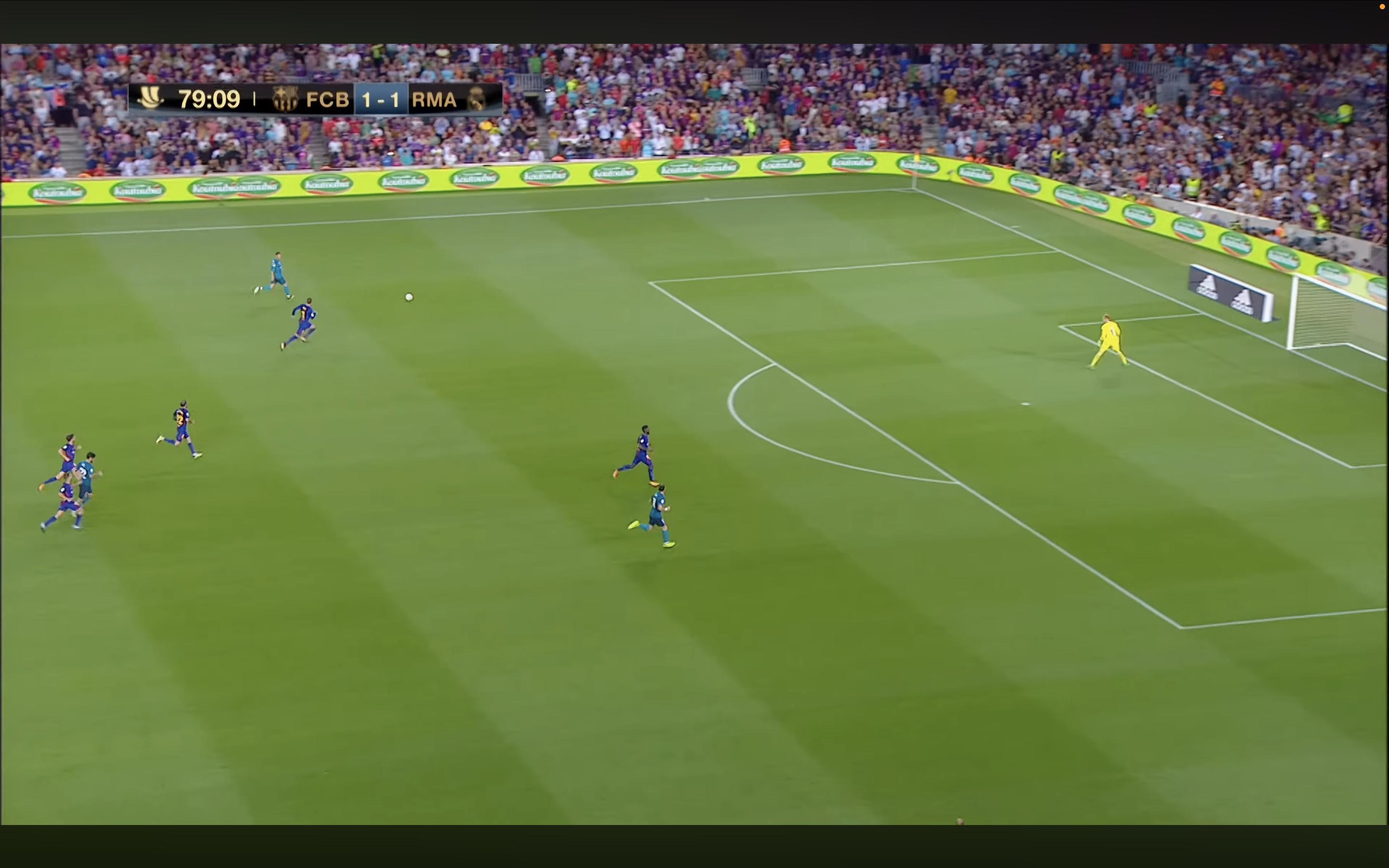ball: (404, 293, 413, 301)
goalkeeper: (1089, 314, 1129, 367)
player: (628, 484, 674, 546), (613, 425, 658, 486), (156, 401, 201, 459), (38, 434, 80, 491), (41, 482, 82, 531), (253, 252, 292, 299), (281, 298, 316, 350), (76, 453, 102, 505)
